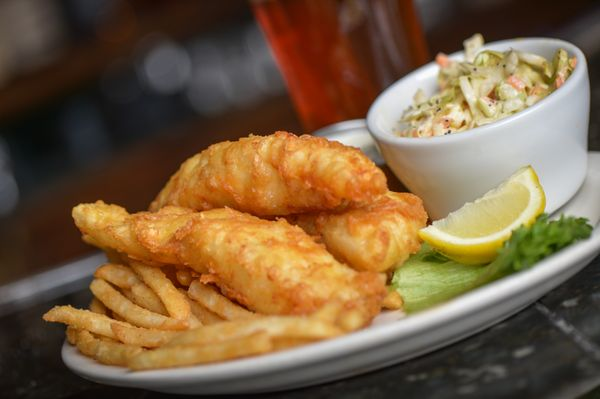pizza: (248, 2, 430, 134)
sushi: (366, 35, 591, 220)
taco: (418, 164, 548, 267)
